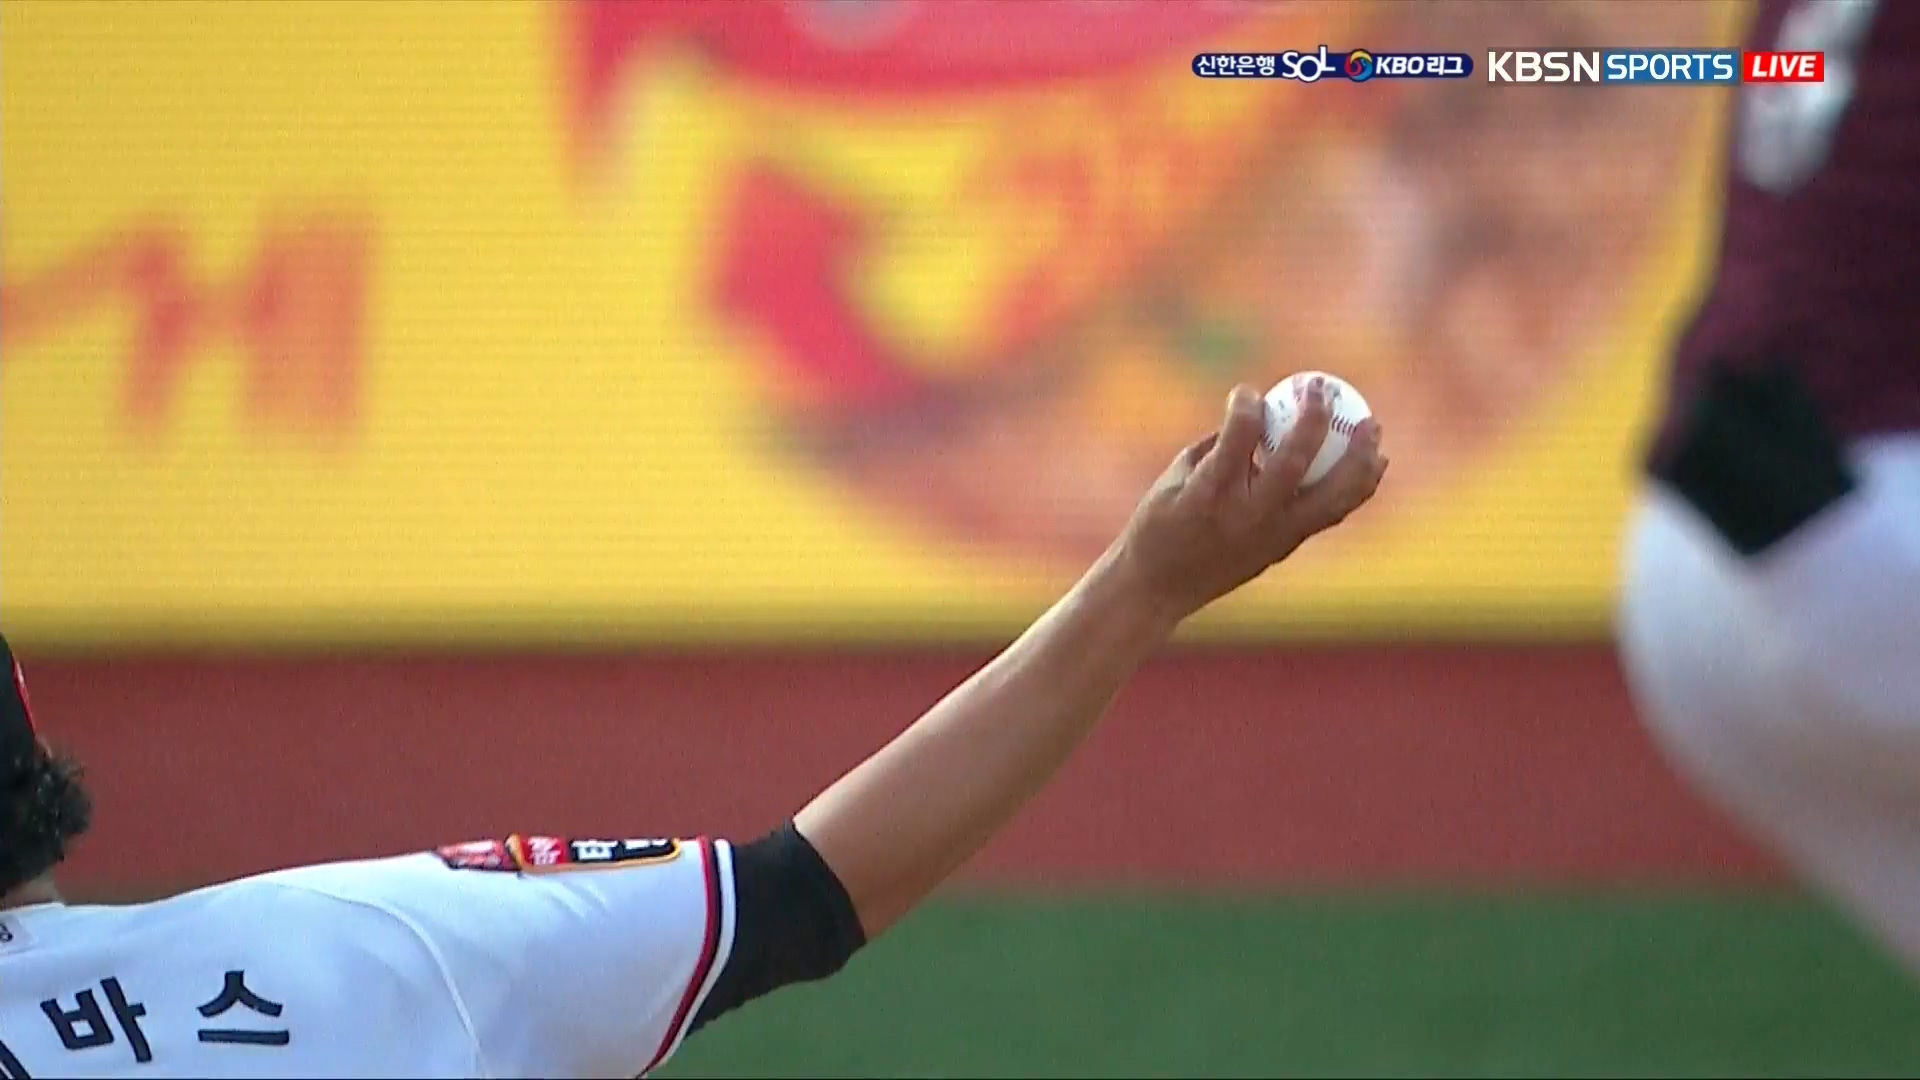zoomin_hand: (794, 357, 1399, 993)
